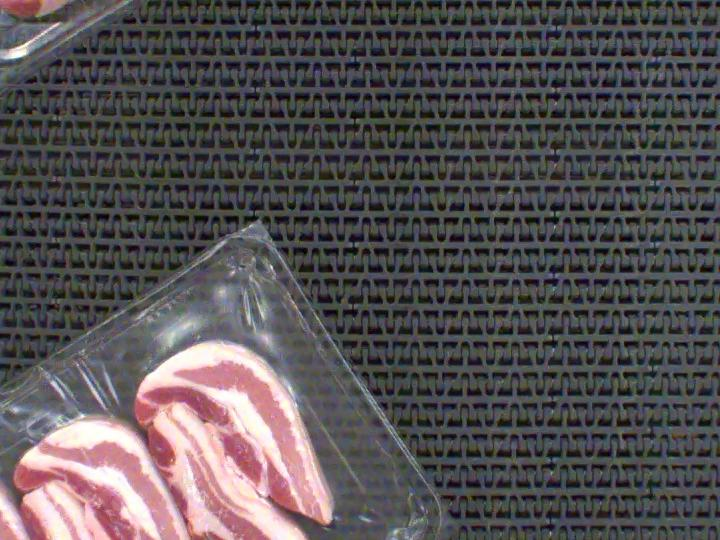unsealed: (0, 260, 420, 540)
